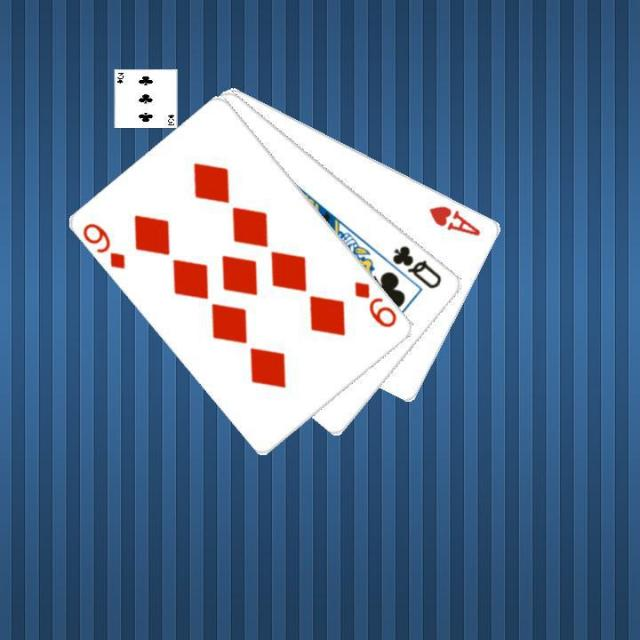9D: (350, 277, 400, 330), (79, 219, 128, 271)
AH: (425, 201, 483, 237)
QC: (388, 241, 444, 291)
